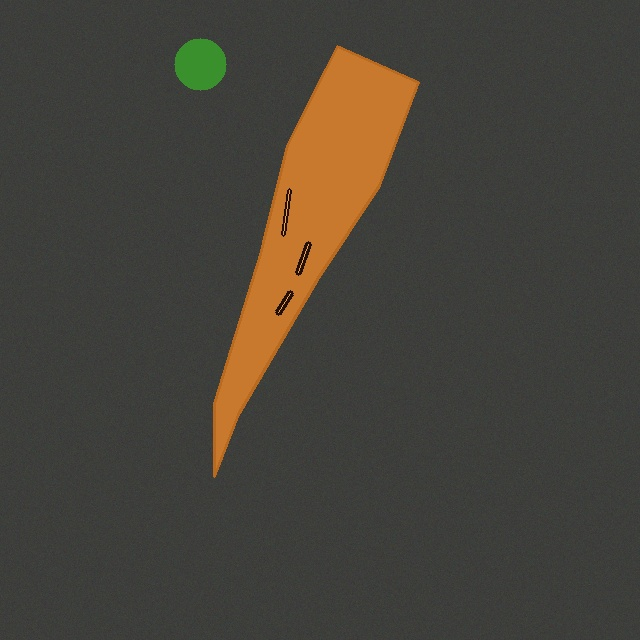Damaged_Carrot: (206, 38, 426, 484)
